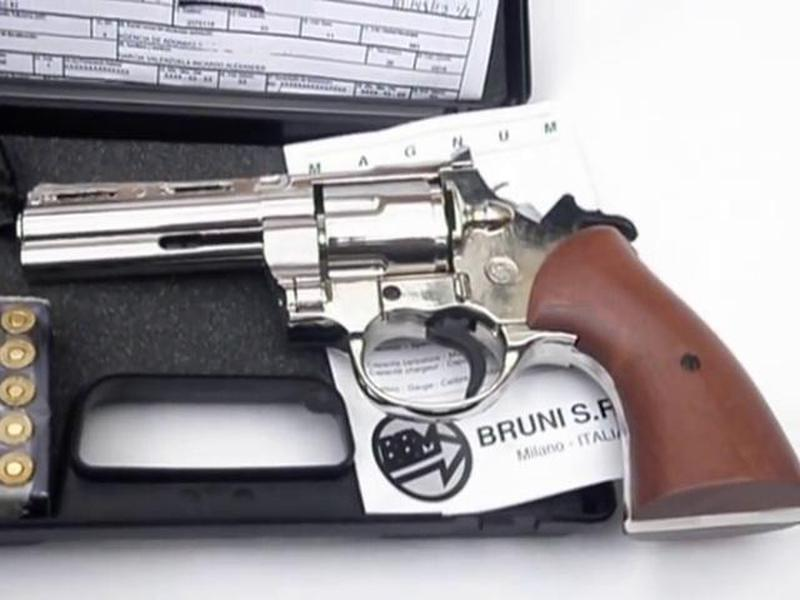Revolver: (22, 140, 799, 467)
